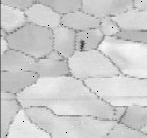good_void: (78, 39, 86, 53)
